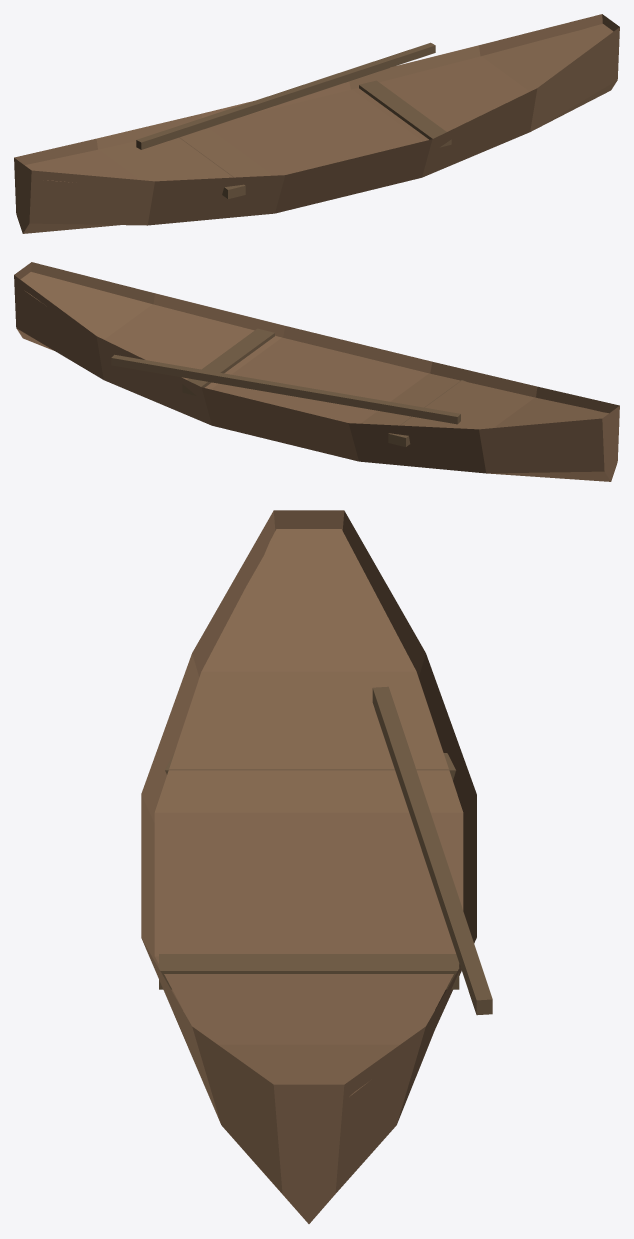
File: K13b_far.glb
3 renders of one model, top to bottom at view 1: azimuth 30°, elevation 25°; view 2: azimuth 150°, elevation 25°; view 3: azimuth 270°, elevation 25°, orthographic. The views are drawn at different scales.
Parts seen in each view (by area): view 1: K13b_far; view 2: K13b_far; view 3: K13b_far.
Boxes of the visible parts, <box> form: K13b_far: <box>14,14,619,233</box>; K13b_far: <box>14,262,619,481</box>; K13b_far: <box>141,510,492,1223</box>.
Size of the model in its own units: 10 by 1.55 by 2.59.
